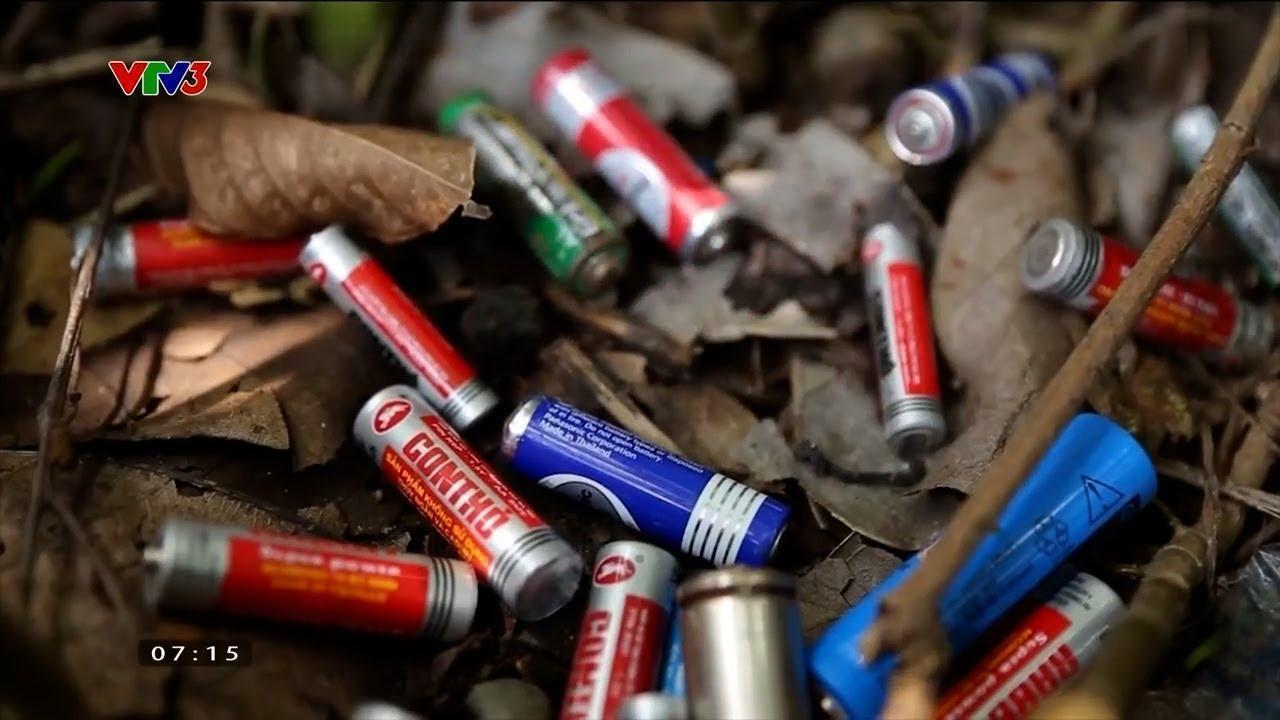AA: (492, 387, 800, 572), (349, 384, 586, 623), (523, 42, 748, 273)
AAA: (288, 216, 507, 435), (134, 514, 481, 646), (856, 216, 954, 466)
